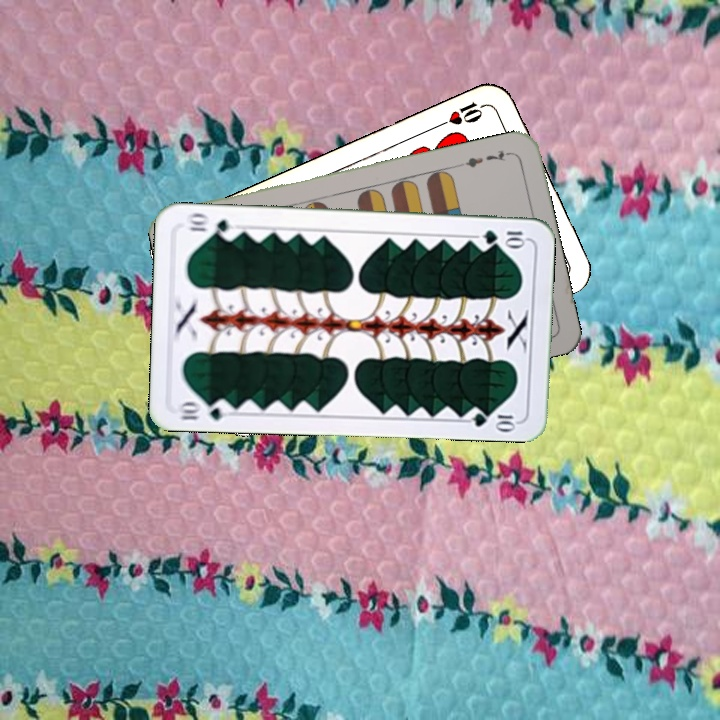E7: (456, 146, 514, 170)
G10: (174, 396, 233, 423), (478, 226, 528, 247)
H10: (435, 97, 491, 129)
